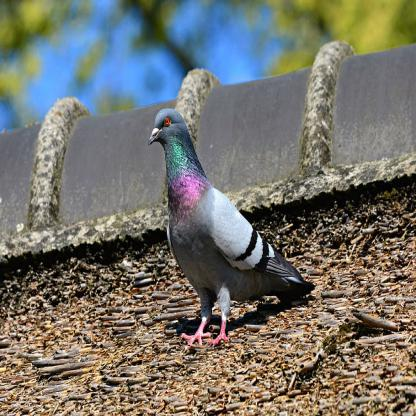Flying Rat: (151, 111, 302, 347)
